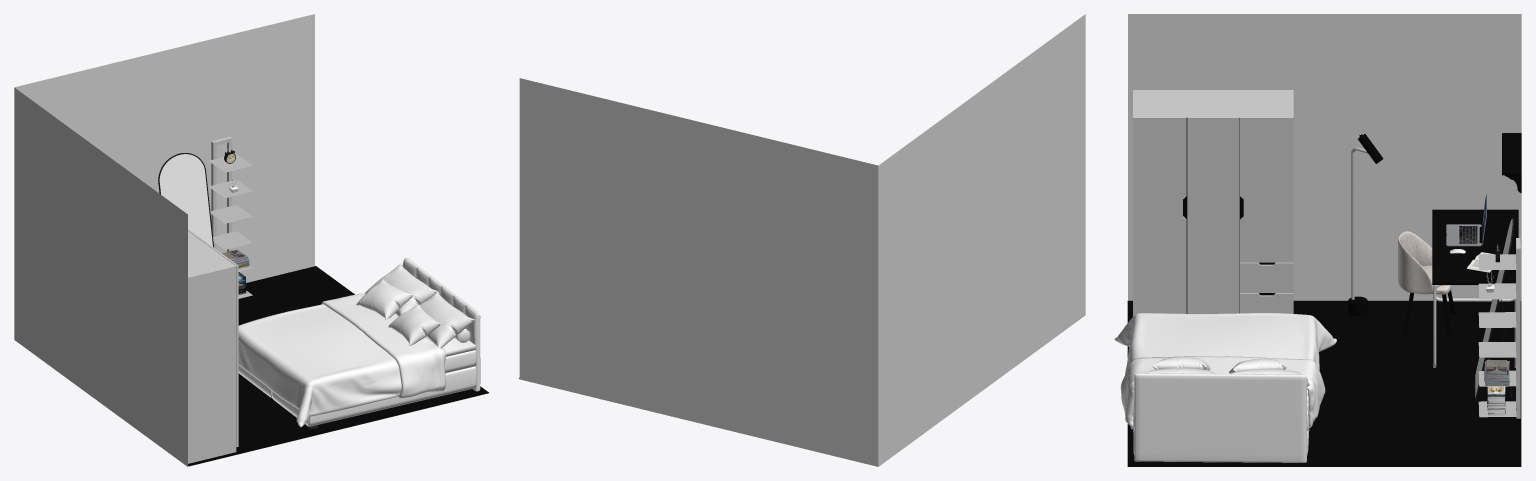
File: my3droom.glb
3 views of the same model, side by side, from view 1: azimuth 30°, elevation 25°; view 2: azimuth 150°, elevation 25°; view 3: azimuth 270°, elevation 25° (orthographic). The views are drawn at different scales.
Parts seen in each view (by area): view 1: Plane, BedCover, Modern Wardrobe White, Plane.001, BedMain, Shatterproof Metal Full Length Mirror, PillowLarge, PillowSmall.001, PillowLarge.001, PillowSmall, Cube.001; view 2: Plane; view 3: Plane, Modern Wardrobe White, Plane.001, BedMain, BedCover, Table_top, Plane.002, Crane Floor Lamp, Shelf, Plane.009, Shatterproof Metal Full Length Mirror, Cube (+9 smaller).
Boxes of the visible parts, x1,y1,x2,y2 form: Plane: [14, 14, 487, 466]; BedCover: [238, 293, 446, 427]; Modern Wardrobe White: [188, 229, 238, 463]; Plane.001: [188, 266, 488, 466]; BedMain: [238, 258, 480, 429]; Shatterproof Metal Full Length Mirror: [158, 153, 213, 247]; PillowLarge: [420, 292, 474, 348]; PillowSmall.001: [356, 279, 413, 319]; PillowLarge.001: [365, 263, 437, 316]; PillowSmall: [388, 304, 440, 345]; Cube.001: [211, 140, 216, 249]; Plane: [519, 14, 1085, 466]; Plane: [1128, 14, 1521, 466]; Modern Wardrobe White: [1133, 90, 1293, 316]; Plane.001: [1127, 300, 1521, 466]; BedMain: [1133, 373, 1309, 462]; BedCover: [1114, 313, 1336, 429]; Table_top: [1432, 209, 1518, 284]; Plane.002: [1398, 231, 1455, 337]; Crane Floor Lamp: [1348, 133, 1383, 316]; Shelf: [1502, 133, 1521, 193]; Plane.009: [1446, 194, 1486, 246]; Shatterproof Metal Full Length Mirror: [1475, 217, 1514, 401]; Cube: [1516, 246, 1520, 418].
Bounding box in the file's own units: 2.01 × 1.61 × 2.07.
Materials: 44 (14 with a texture image).
